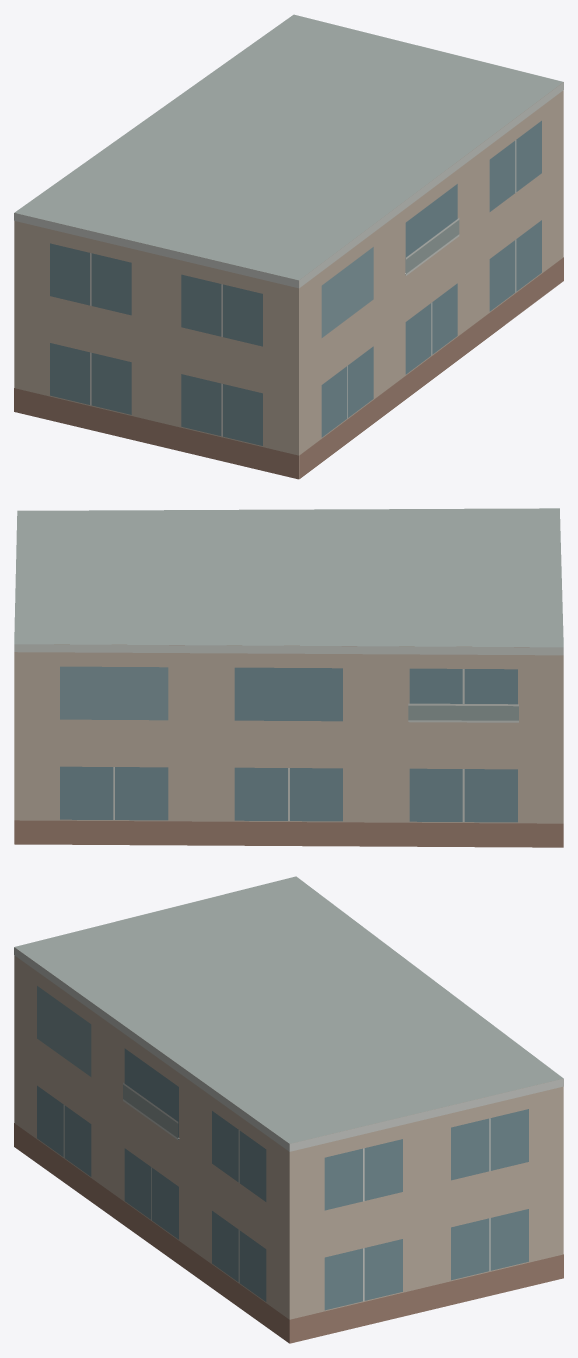
File: survey-upis-32721133.glb
The picture shows the model from 3 angles, top to bottom: view 1: azimuth 30°, elevation 25°; view 2: azimuth 150°, elevation 25°; view 3: azimuth 270°, elevation 25°; orthographic projection.
Parts seen in each view (by area): view 1: survey-upis-32721133.tmp; view 2: survey-upis-32721133.tmp; view 3: survey-upis-32721133.tmp.
Boxes of the visible parts, x1,y1,x2,y2 form: survey-upis-32721133.tmp: [14, 14, 563, 479]; survey-upis-32721133.tmp: [14, 508, 563, 847]; survey-upis-32721133.tmp: [14, 876, 563, 1343].
Bounding box in the file's own units: 17.54 × 6.1 × 15.23.
